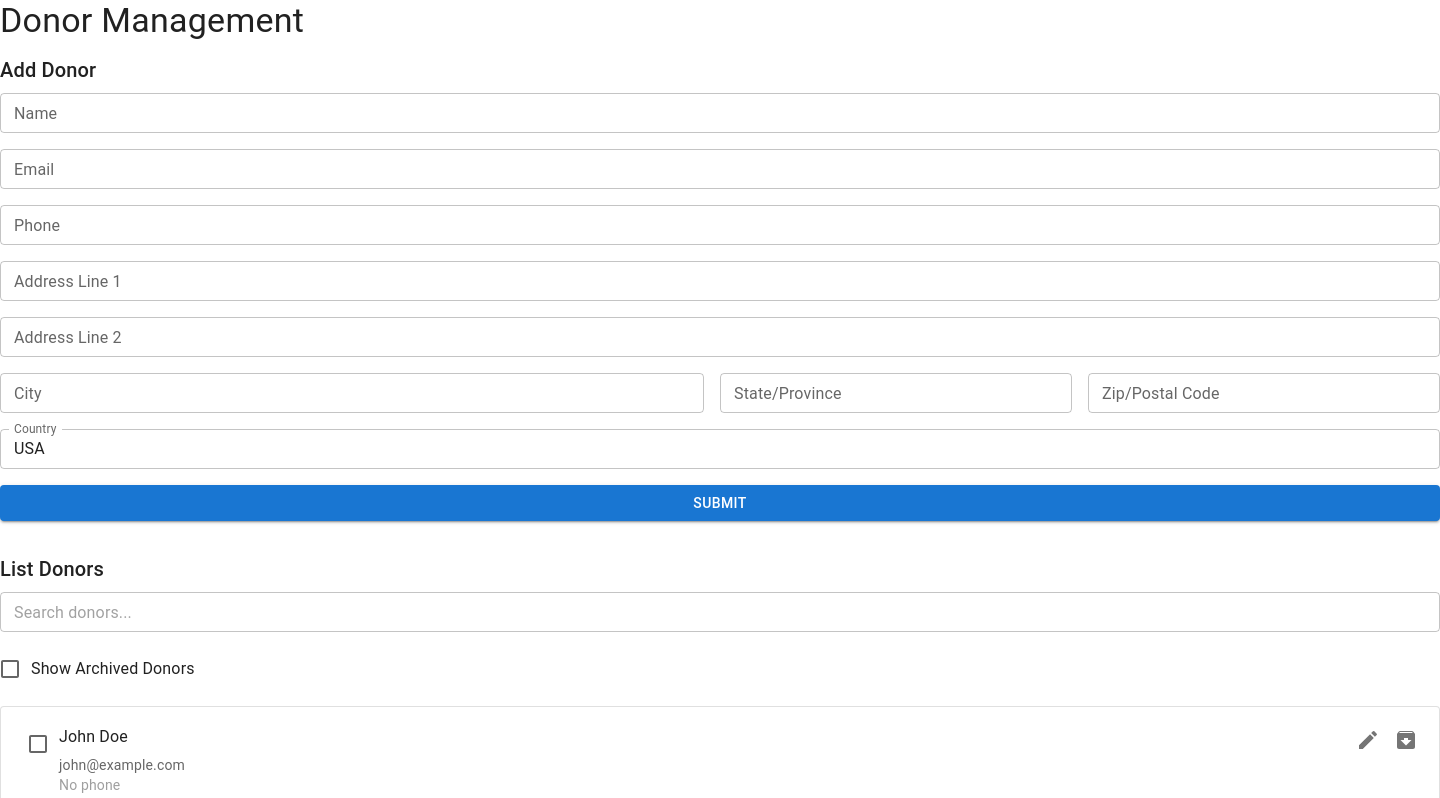
Test: DonorsPage › opens merge modal when merge button clicked
The width and height of the screenshot is (1440, 798).
Expected: the text "John Doe" is shown, 59,723 -> 128,751
# Select both donors
Step 1. Click the 2nd checkbox → (38, 744), box 26,732 -> 50,756
(page scrolled)
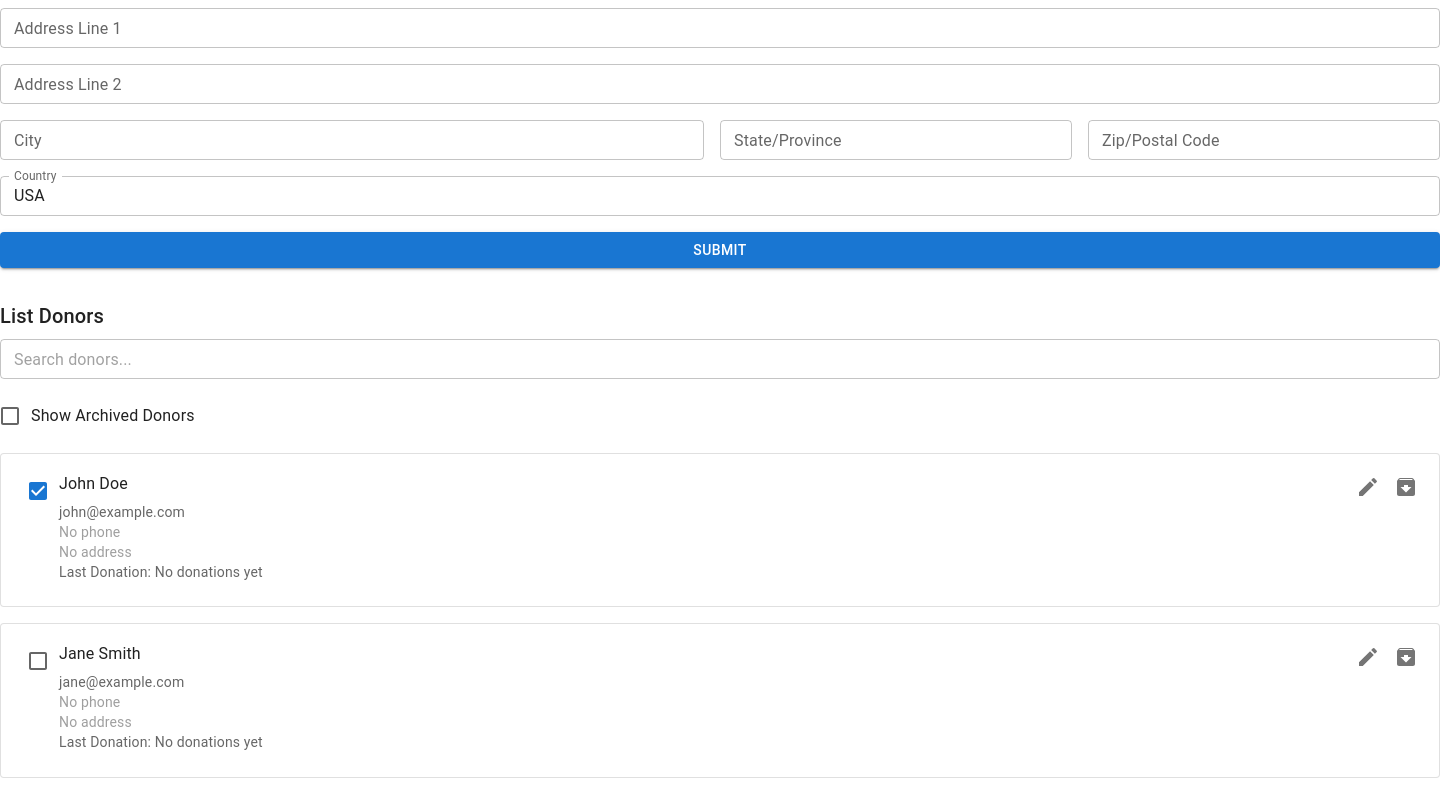
Step 2. Click the 3rd checkbox → (38, 661), box 26,649 -> 50,673
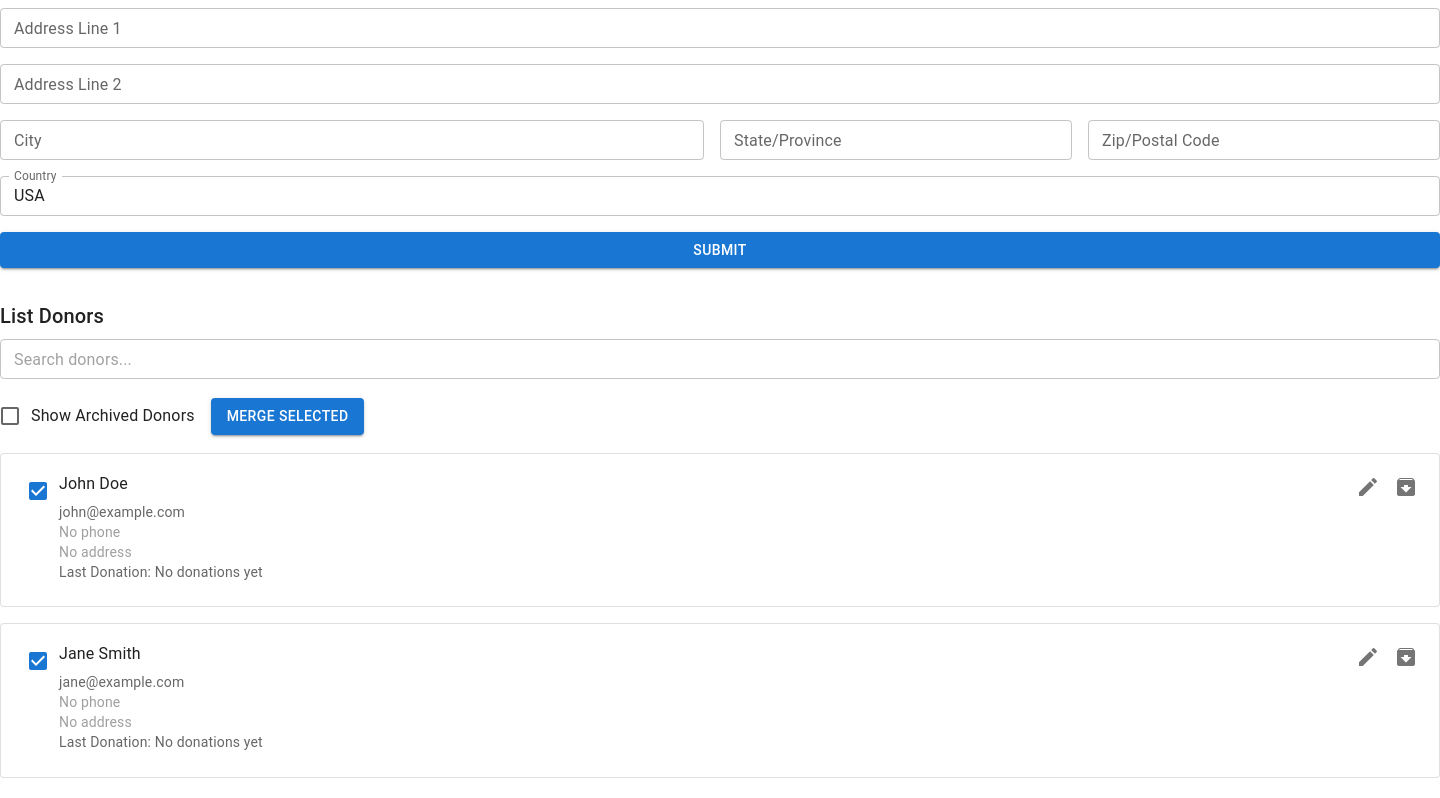
# Click merge button
Step 3. Click the button "Merge Selected" → (288, 416), box 211,398 -> 364,435
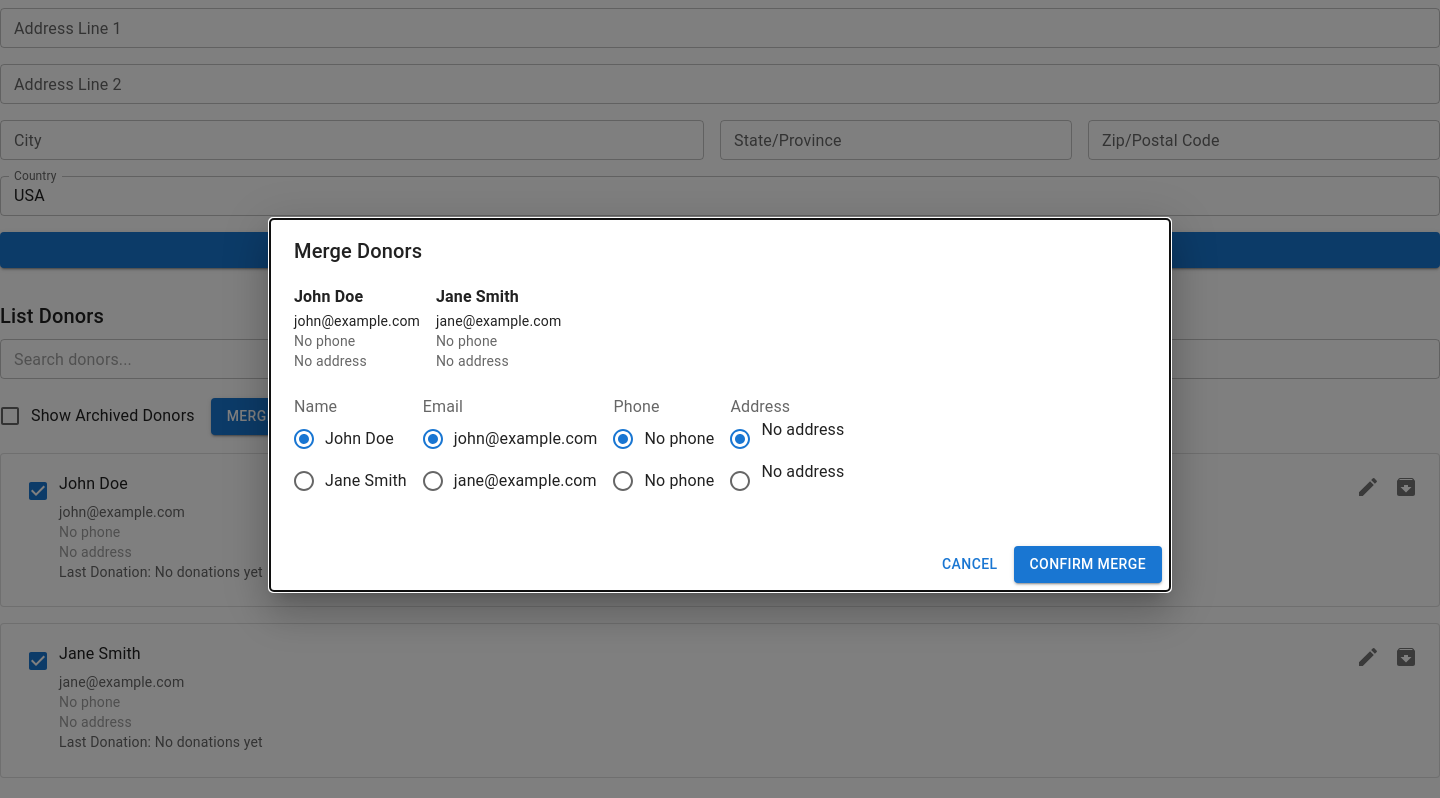
Now the heading "Merge Donors" is shown, box 294,239 -> 422,263
